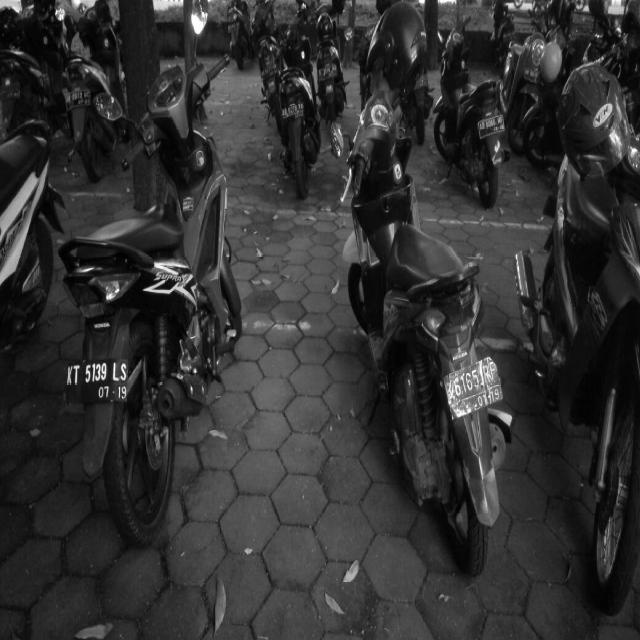license-plat: (58, 349, 138, 418)
